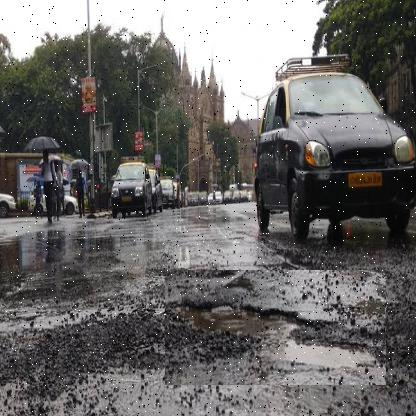pothole_water_m: (164, 270, 386, 386)
